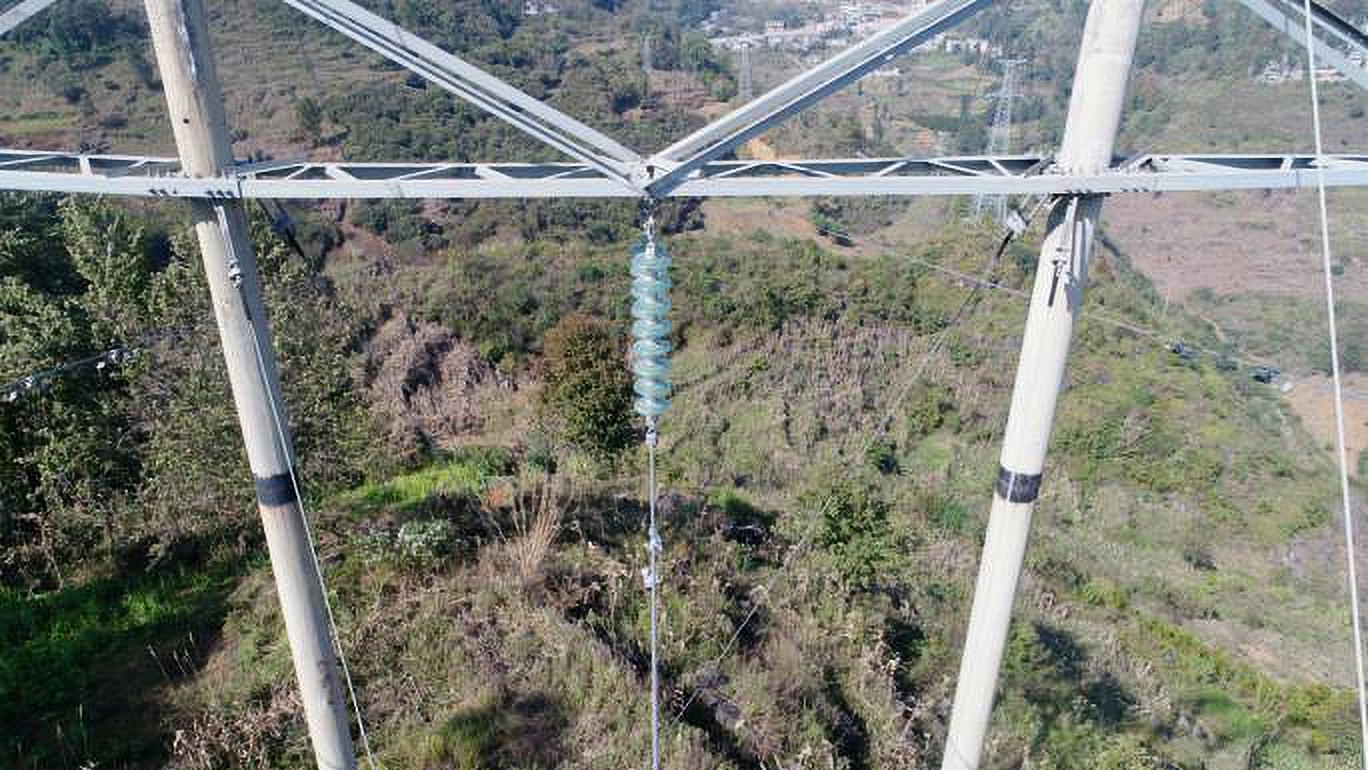insulator: (626, 245, 678, 420)
